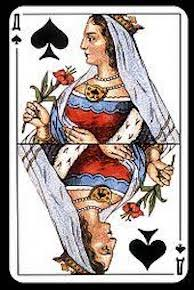QueenOfSpades: (6, 5, 191, 285)
